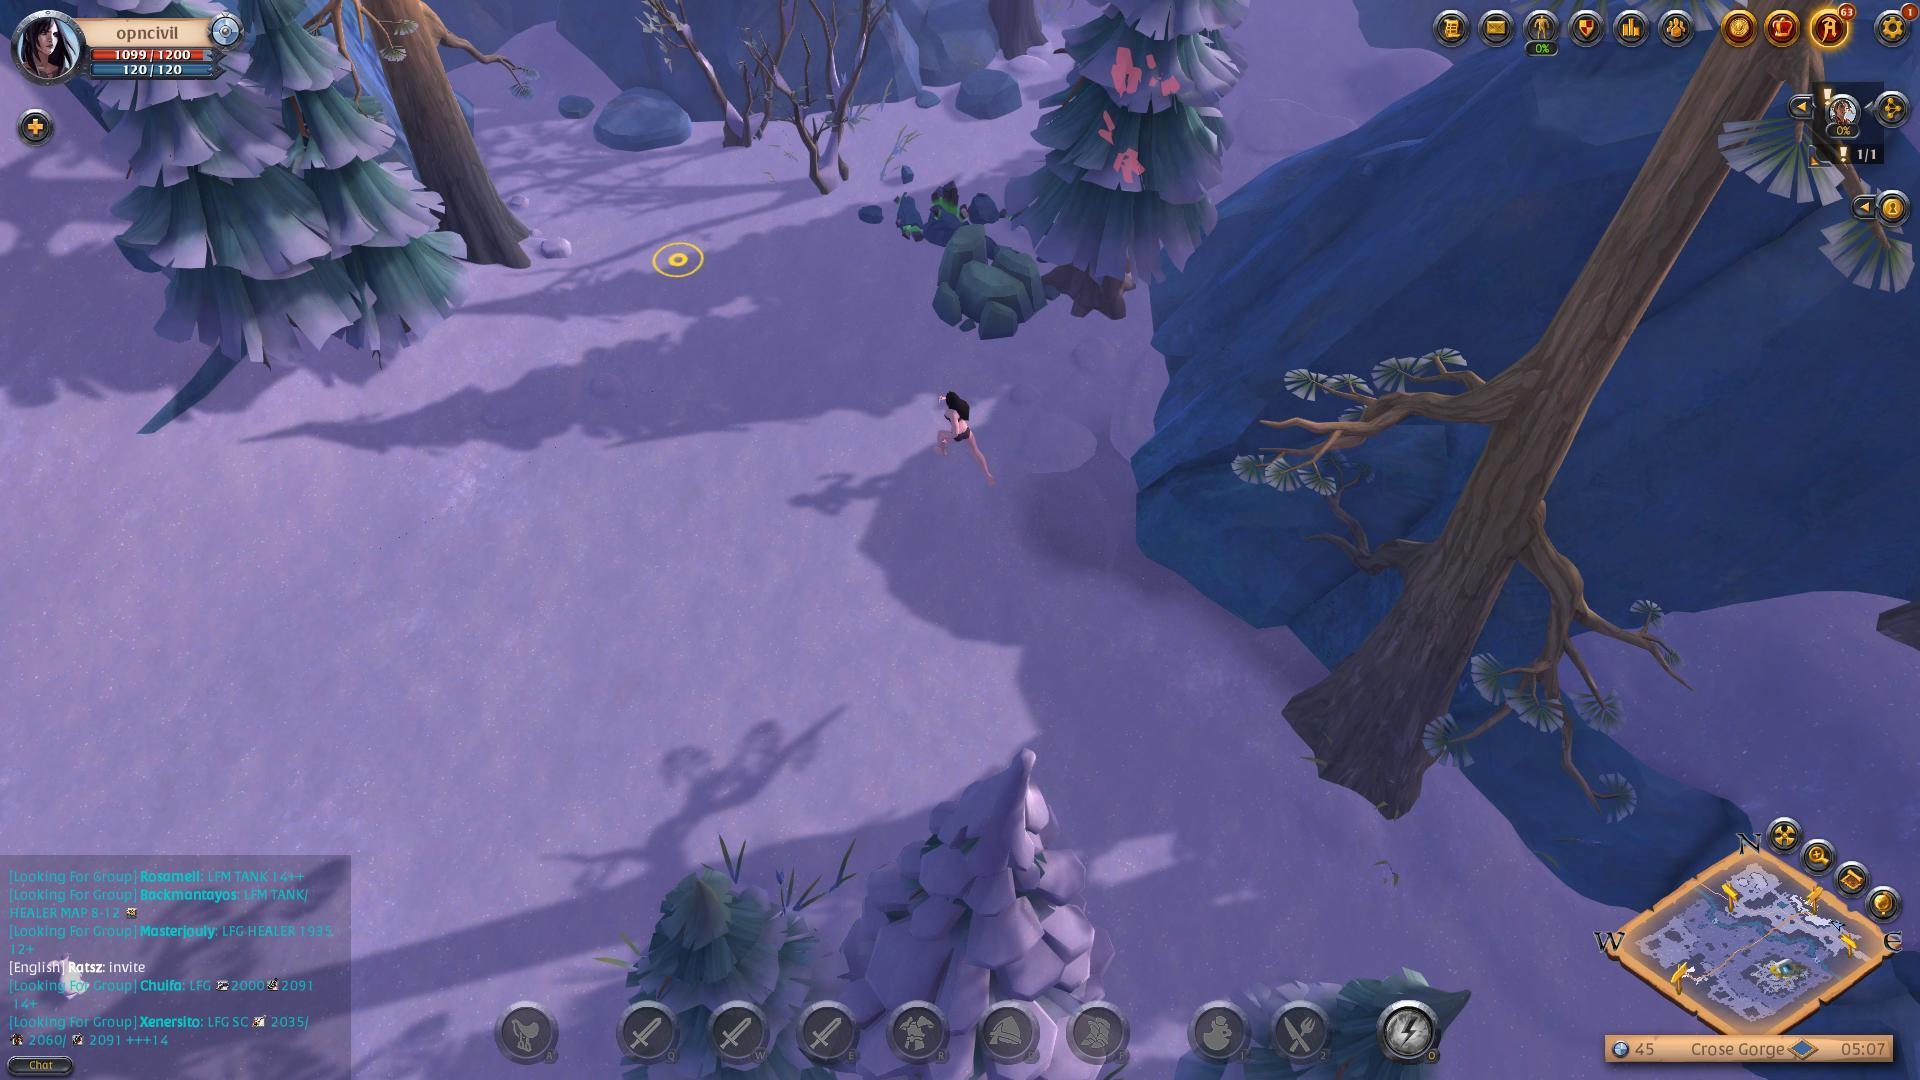sandstone: (924, 219, 1060, 348)
